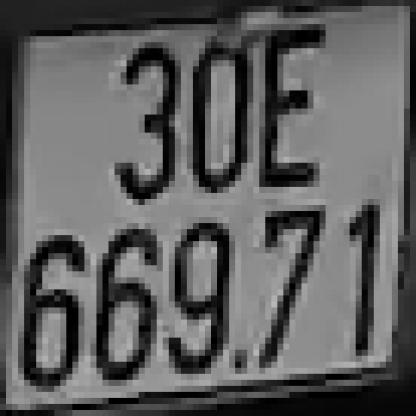0: (193, 42, 241, 193)
1: (331, 205, 386, 356)
3: (114, 42, 181, 199)
6: (96, 223, 163, 380), (18, 229, 84, 386)
7: (253, 205, 320, 368)
9: (169, 217, 229, 368)
E: (253, 30, 320, 187)
